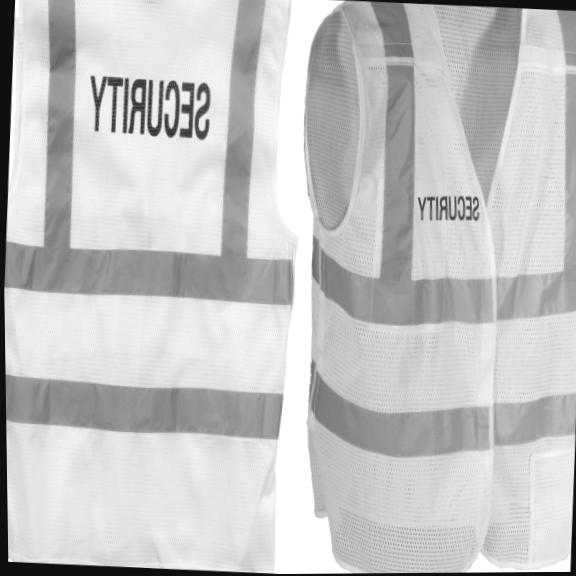safety_vest: (0, 0, 316, 575), (277, 0, 576, 574)
